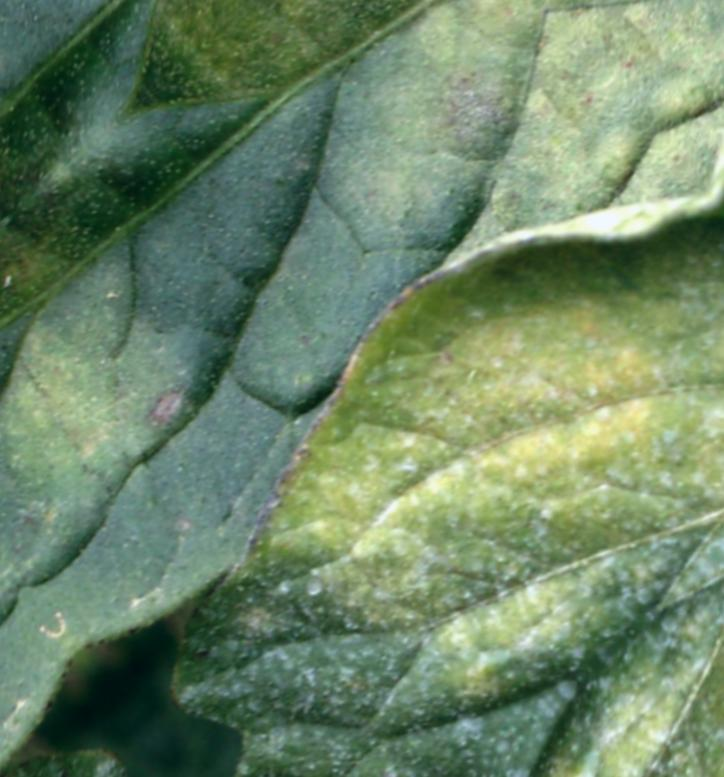Tomato mold leaf: (0, 0, 724, 746), (47, 103, 724, 777)
